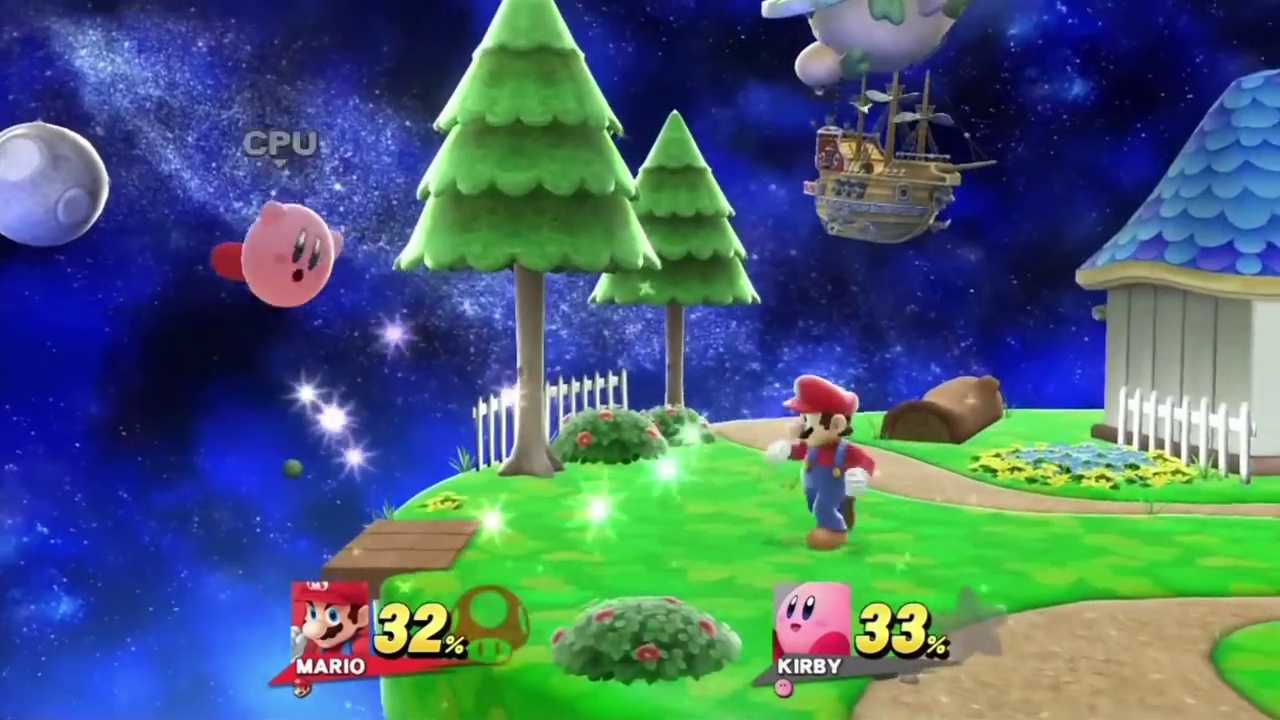Mario: (764, 374, 873, 550)
